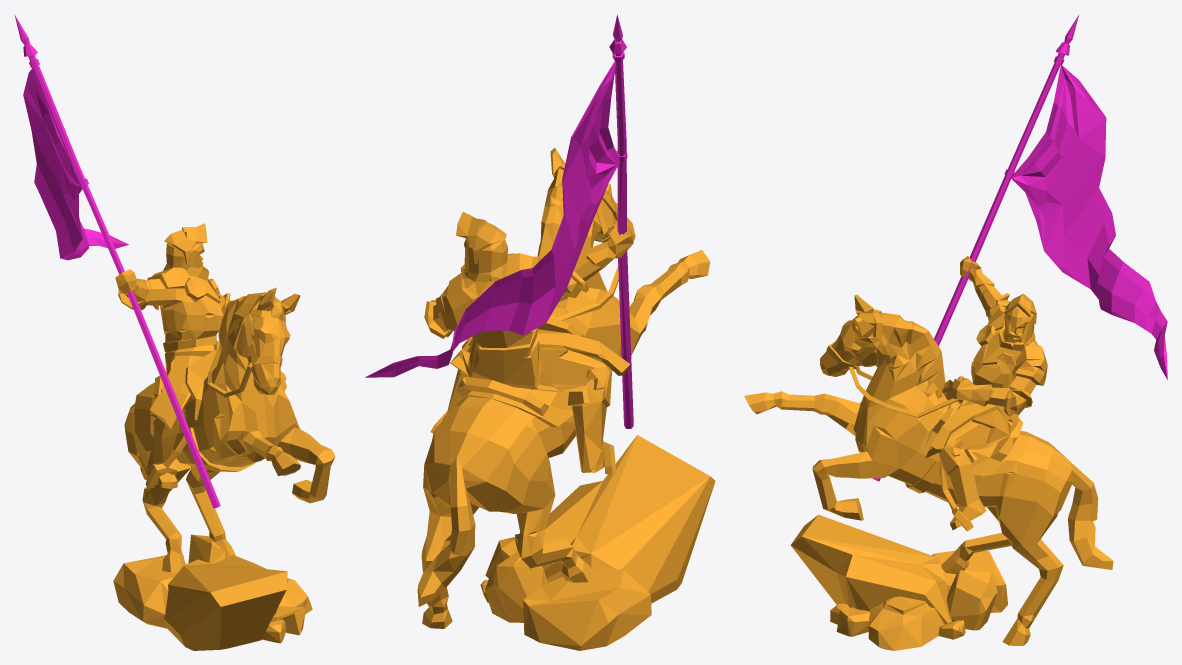
The model's file is SM_Statue_HorseRider_Rearing_Fantasy.fbx.
The picture shows the model from 3 angles, left to right: view 1: azimuth 30°, elevation 25°; view 2: azimuth 150°, elevation 25°; view 3: azimuth 270°, elevation 25°; orthographic projection. The views are drawn at different scales.
Visible parts, largest first — view 1: SM_Statue_HorseRider_Rearing_Fantasy; view 2: SM_Statue_HorseRider_Rearing_Fantasy; view 3: SM_Statue_HorseRider_Rearing_Fantasy.
Boxes of the visible parts, x1,y1,x2,y2 form: SM_Statue_HorseRider_Rearing_Fantasy: (14, 14, 335, 650); SM_Statue_HorseRider_Rearing_Fantasy: (365, 14, 715, 650); SM_Statue_HorseRider_Rearing_Fantasy: (744, 15, 1167, 650).
Bounding box in the file's own units: 1.6 × 4.12 × 2.91.
